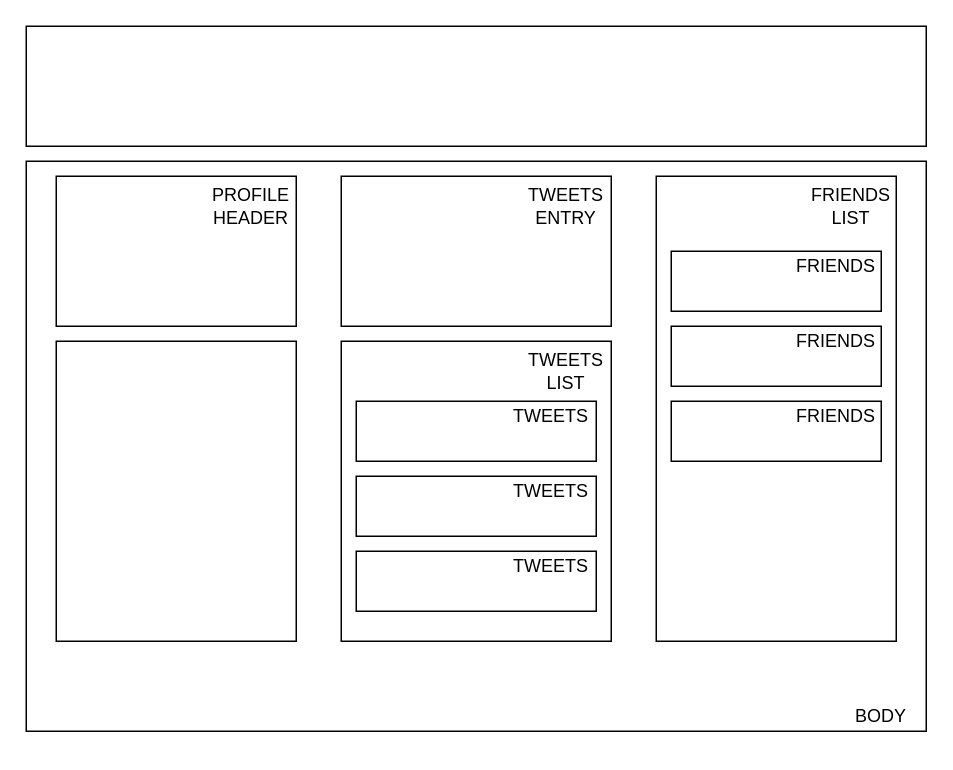
Image size: 953x770. Some labels were removed from this diagram. The shapes that lost their labels are listed below. From the top down, each one's centre as x and y in pixels, then its label:
At (x=475, y=85): "NAVBAR".
At (x=175, y=490): "PROFILE BODY".
